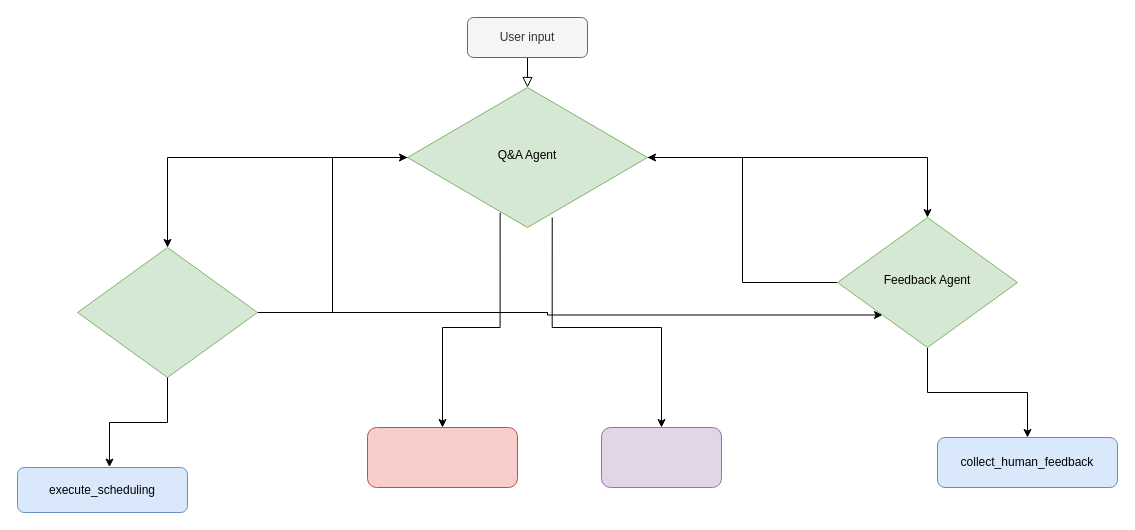
Image size: 1135x530. Some labels were removed from this diagram. Here are the shapes that lost their labels. From the top down, the centre of each, then its label:
point 167,312: Scheduling Agent
point 442,457: escalate_to_human
point 661,457: rag.retrieve
